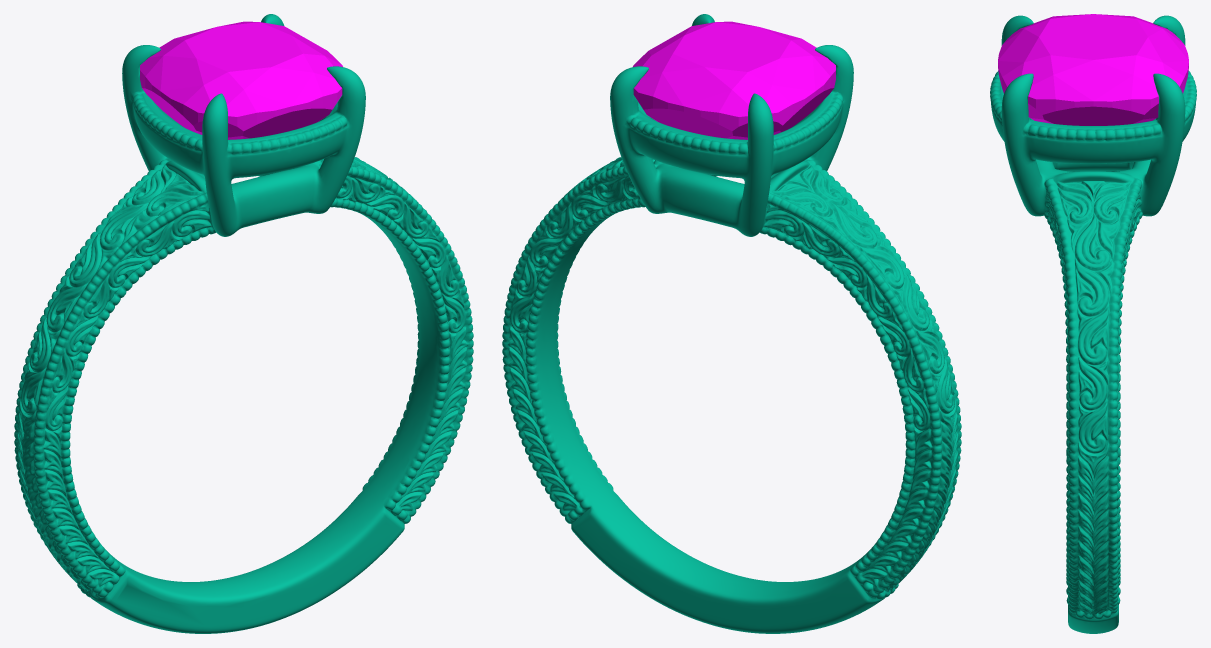
File: BE1512_CU_200ct_RENDER.glb
3 renders of one model, left to right at view 1: azimuth 30°, elevation 25°; view 2: azimuth 150°, elevation 25°; view 3: azimuth 270°, elevation 25°, orthographic.
Parts seen in each view (by area): view 1: Metal 01, CS_Diamond_Cushion; view 2: Metal 01, CS_Diamond_Cushion; view 3: Metal 01, CS_Diamond_Cushion.
Boxes of the visible parts, box(x1,y1,x2,y2) form: Metal 01: box(14, 14, 473, 633); CS_Diamond_Cushion: box(140, 21, 342, 139); Metal 01: box(502, 14, 961, 633); CS_Diamond_Cushion: box(633, 21, 835, 139); Metal 01: box(990, 15, 1196, 633); CS_Diamond_Cushion: box(998, 14, 1188, 125).
Bounding box in the file's own units: 19.91 × 24.79 × 8.11.
